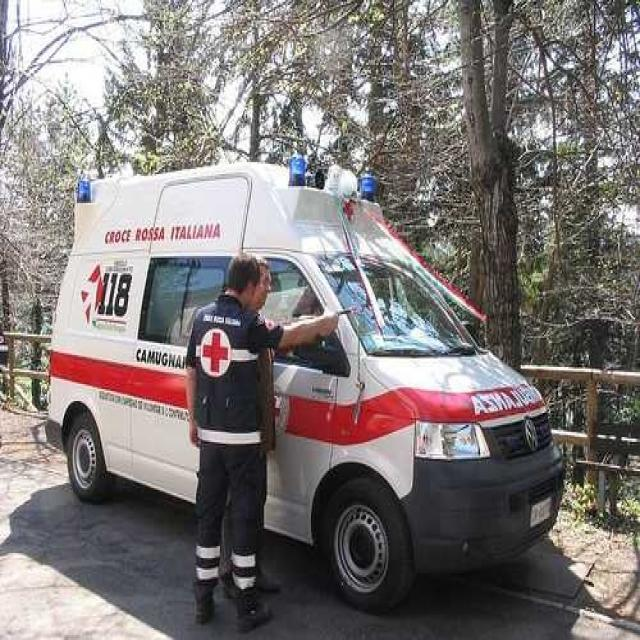emergency-vehicle: (37, 150, 574, 623)
